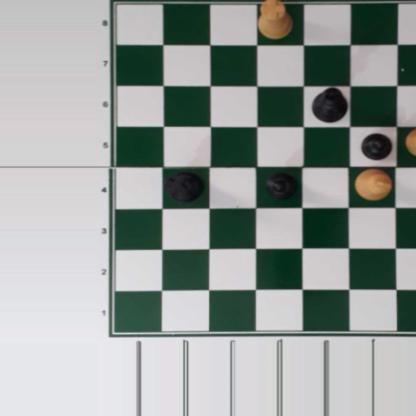black-king: (311, 87, 347, 123)
black-pawn: (265, 172, 300, 202), (359, 131, 392, 160)
black-rook: (166, 169, 204, 202)
white-bishop: (403, 124, 416, 159)
white-king: (354, 164, 393, 203)
white-rook: (257, 0, 294, 39)
